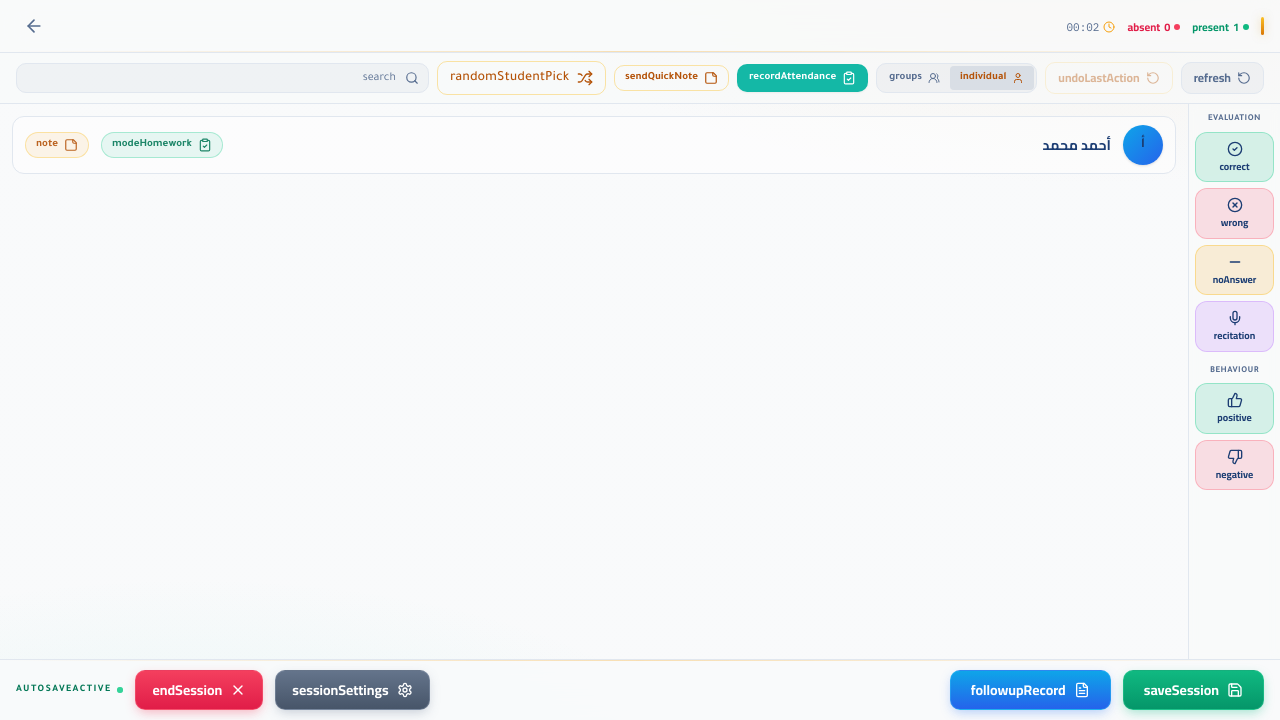
Scenario: undo activates immediately when the first action is a not mastered recitation
This screenshot has width=1280, height=720.
Click the button "أ أحمد محمد modeHomework note" at (1143, 145), box top-left (12, 116), bottom-right (1176, 174)
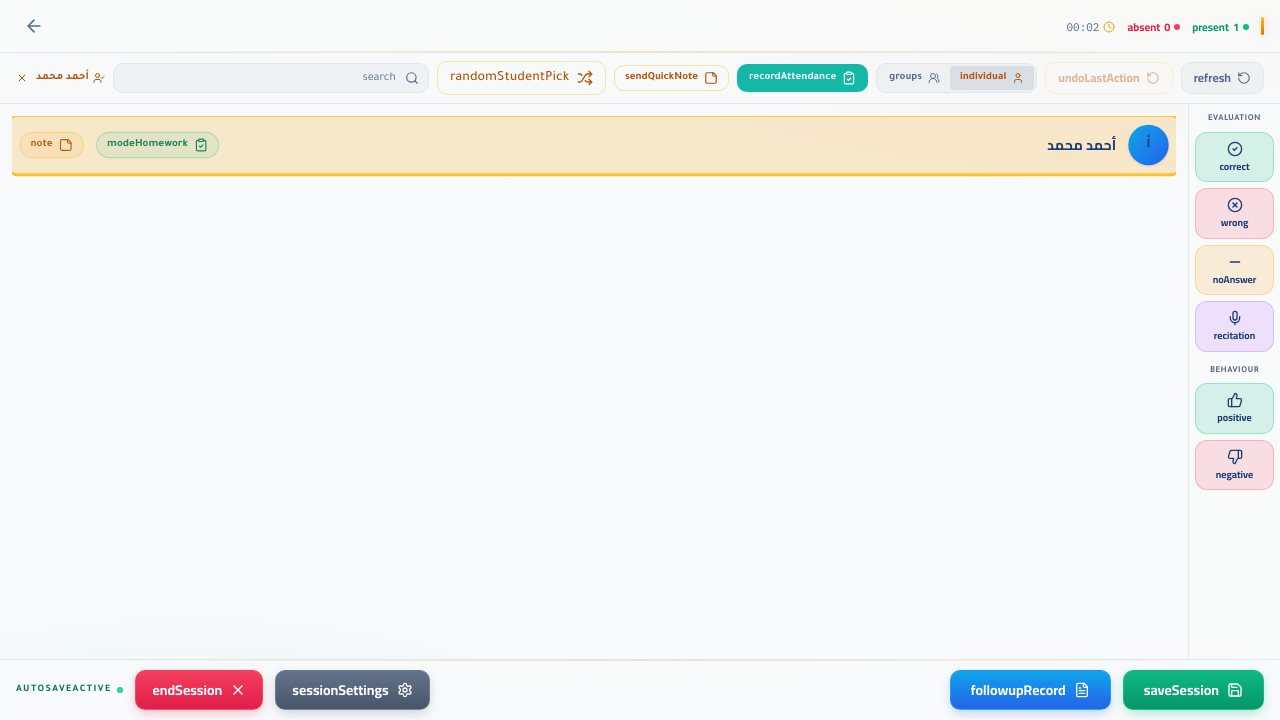
Click the button "recitation" at (1234, 326), box top-left (1195, 301), bottom-right (1274, 352)
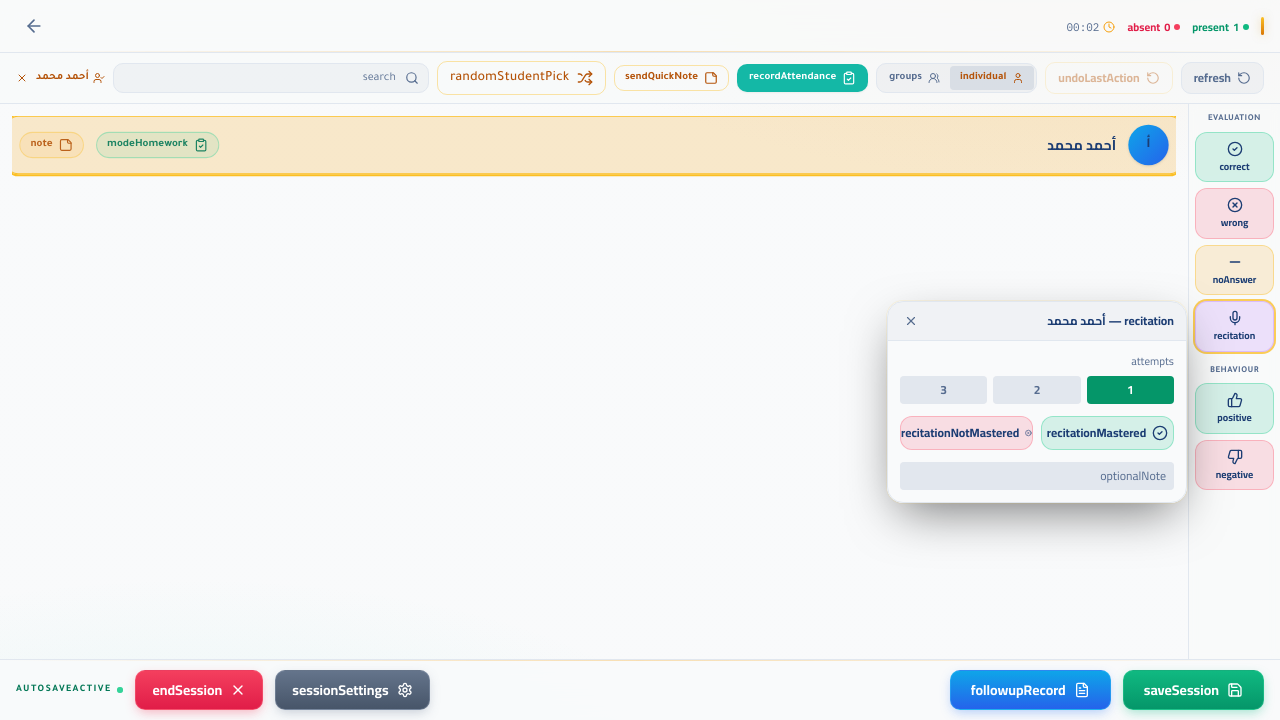
Expected: the button "undoLastAction" is disabled, top-left (1045, 62), bottom-right (1173, 94)
Click the button "recitationNotMastered" at (966, 432), box top-left (900, 416), bottom-right (1033, 450)
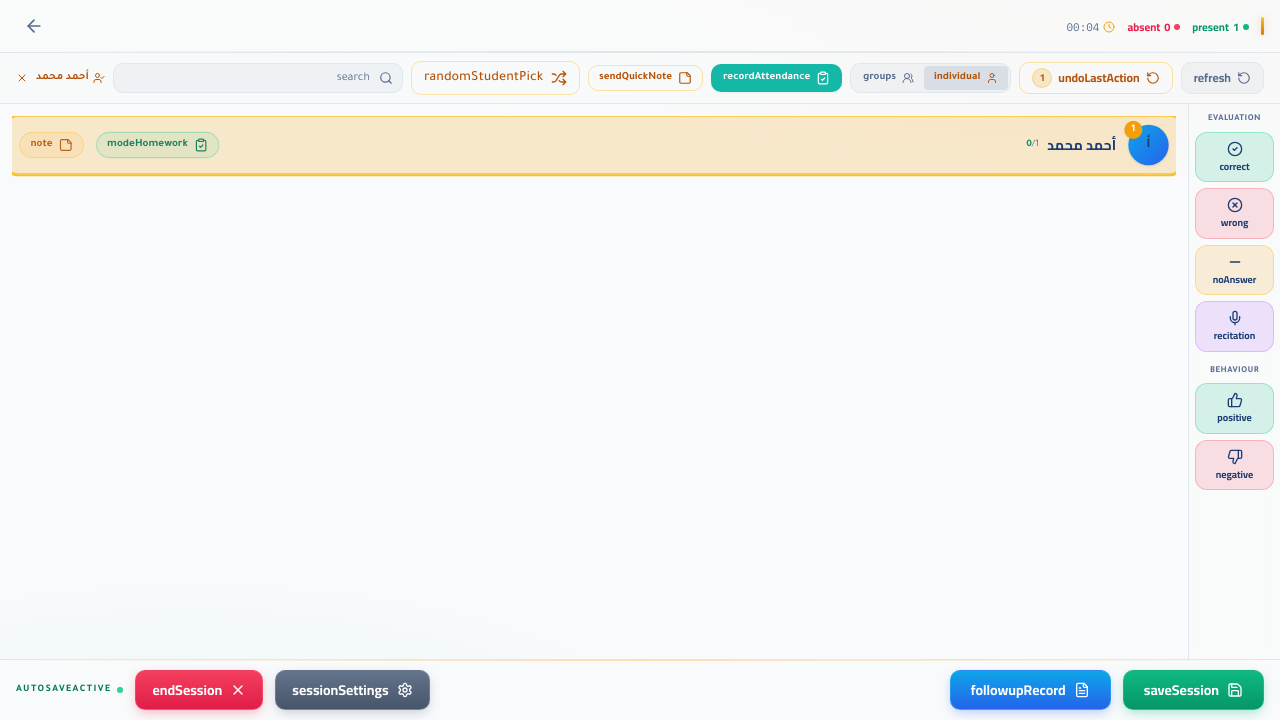
Expected: the button "undoLastAction 1" is enabled, top-left (1019, 62), bottom-right (1173, 94)
